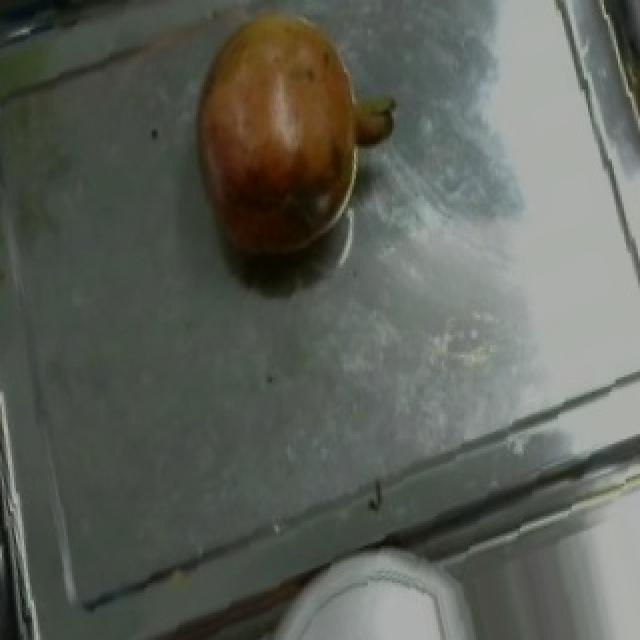fruit: (168, 0, 410, 275), (274, 553, 476, 640)
